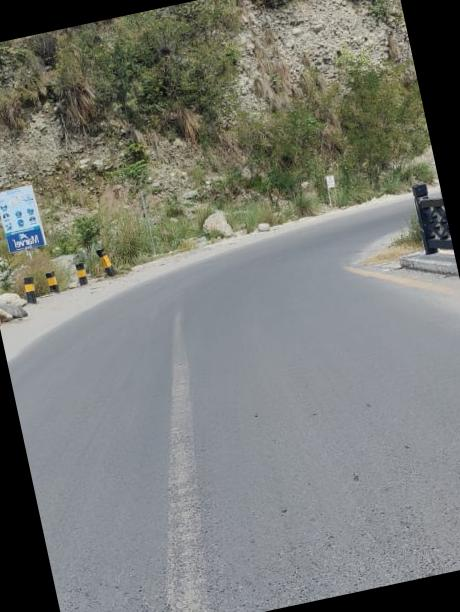left_turn: (62, 96, 460, 380)
